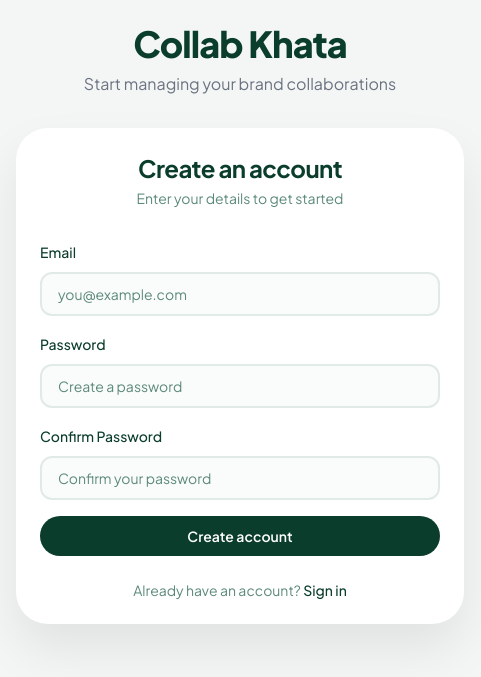
Test case: RegisterPage › should validate email format
This screenshot has width=481, height=677.
Type "invalid-email" into the field labelled "Email". click: (240, 294)
box: [40,272,440,316]
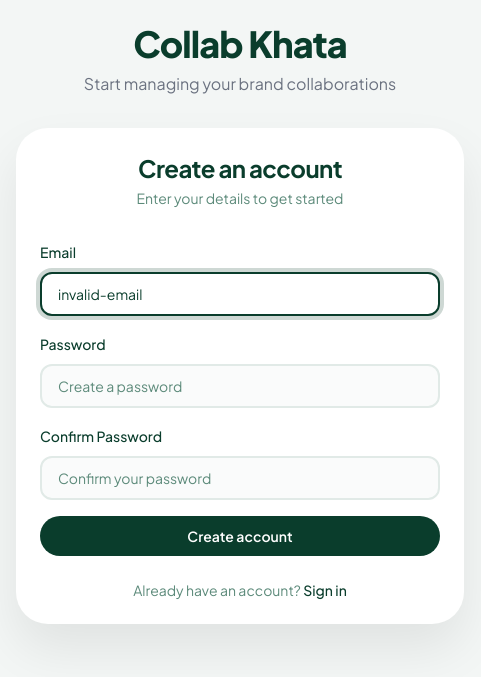
Type "password123" into the password field labelled "Password". click: (240, 386)
box: [40,364,440,408]
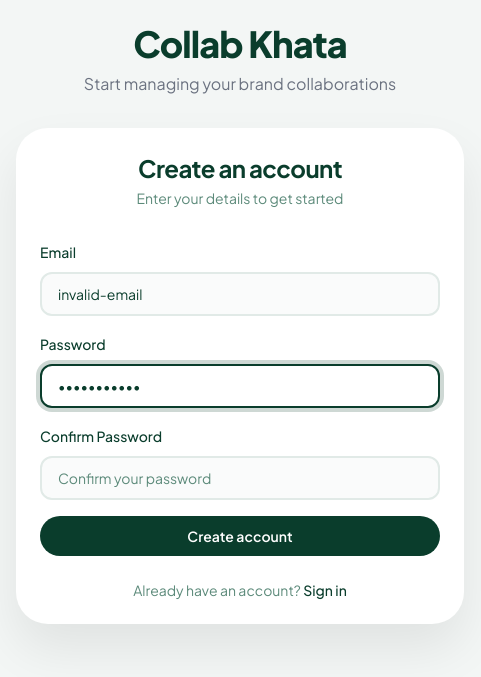
Type "password123" into the password field labelled "Confirm Password". click: (240, 478)
box: [40,456,440,500]
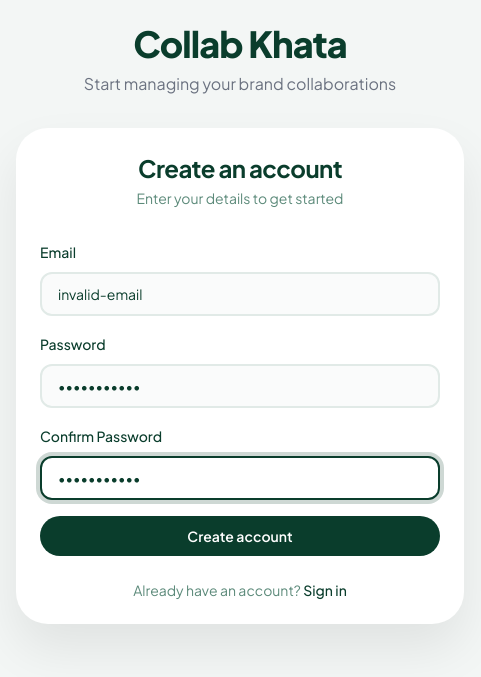
Click the button "Create account". click: click(240, 536)
box: [40,516,440,556]
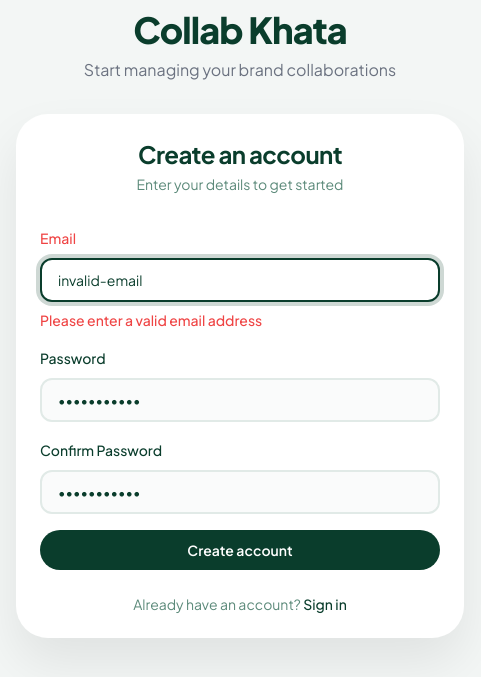
Expected: the text "Please enter a valid email address" is shown, [40,311,262,329]
